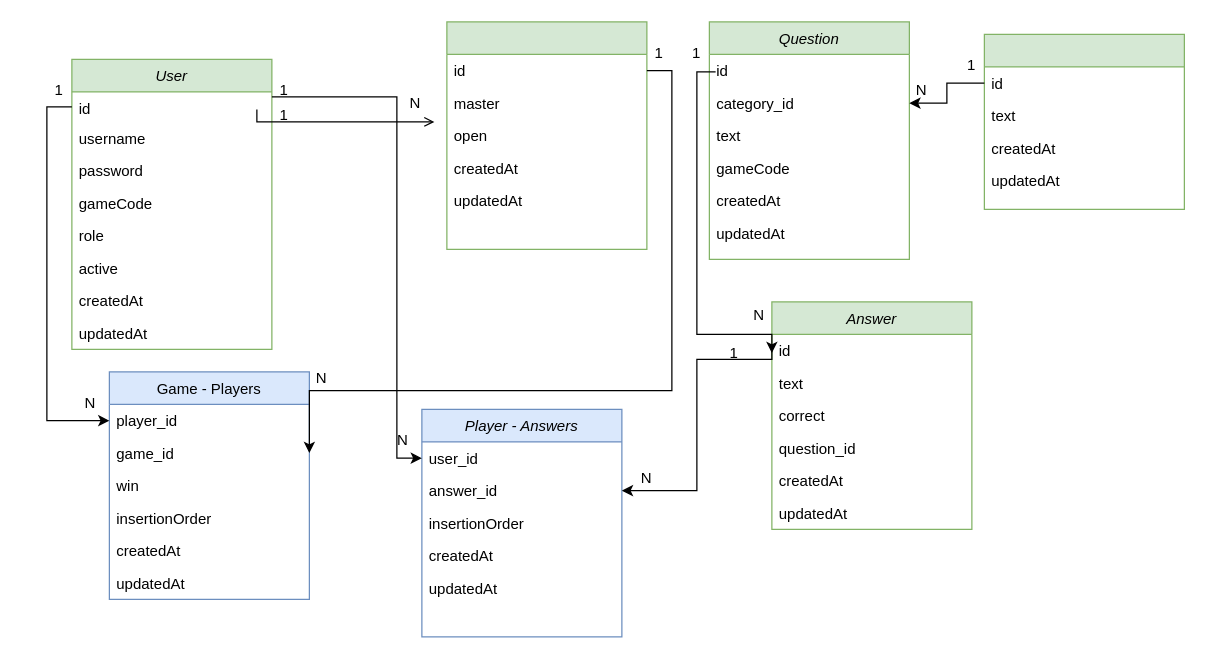
The diagram is 1206 pixels wide and 659 high, and some of its shapes have lost their labels. The box of each missing label's shape, as (x1, y1, x2, y2) in pixels:
Category: (983, 33, 1184, 209)
Game: (446, 21, 647, 249)
